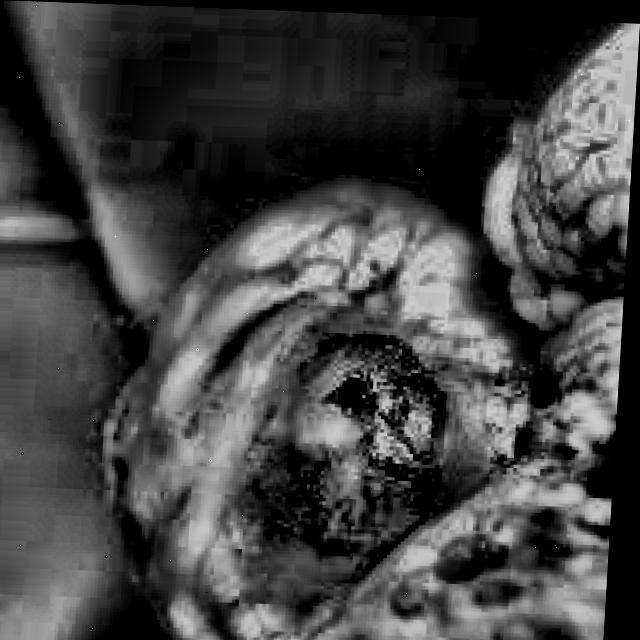Bumble foot: (98, 4, 640, 640)
